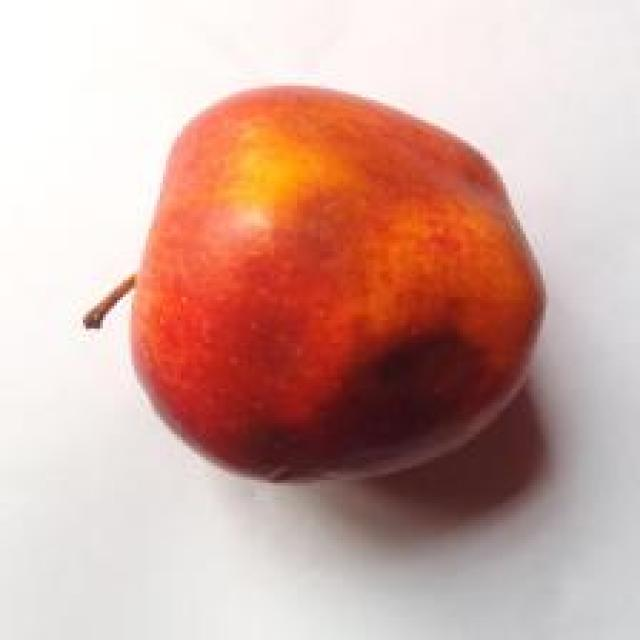rotten apple: (49, 65, 586, 536)
